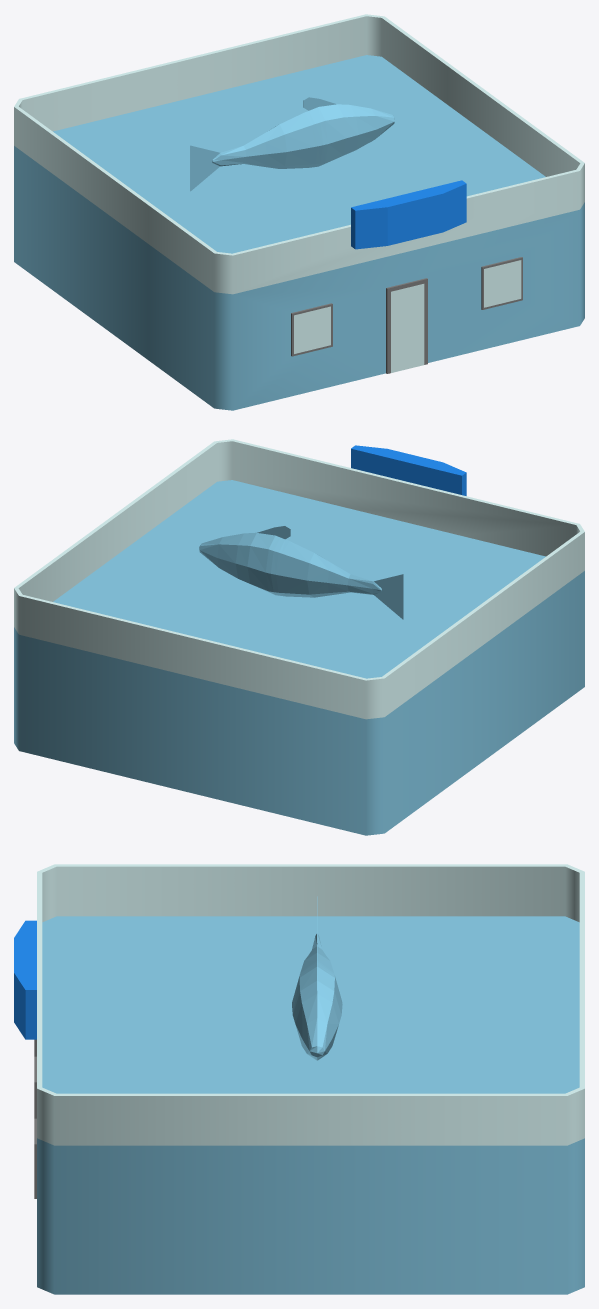
File: Balıkçı.fbx
3 renders of one model, top to bottom at view 1: azimuth 30°, elevation 25°; view 2: azimuth 150°, elevation 25°; view 3: azimuth 270°, elevation 25°, orthographic. The views are drawn at different scales.
Visible parts, largest first — view 1: Group1; view 2: Group1; view 3: Group1.
Boxes of the visible parts, x1,y1,x2,y2 form: Group1: (14,14,584,410); Group1: (14,439,584,835); Group1: (14,864,584,1294).
Bounding box in the file's own units: 10 × 4.85 × 10.42.
